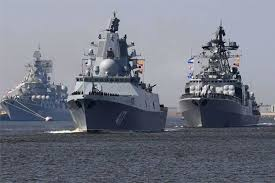tau_muctieu: (72, 28, 169, 134), (178, 31, 261, 135), (6, 52, 71, 123)
